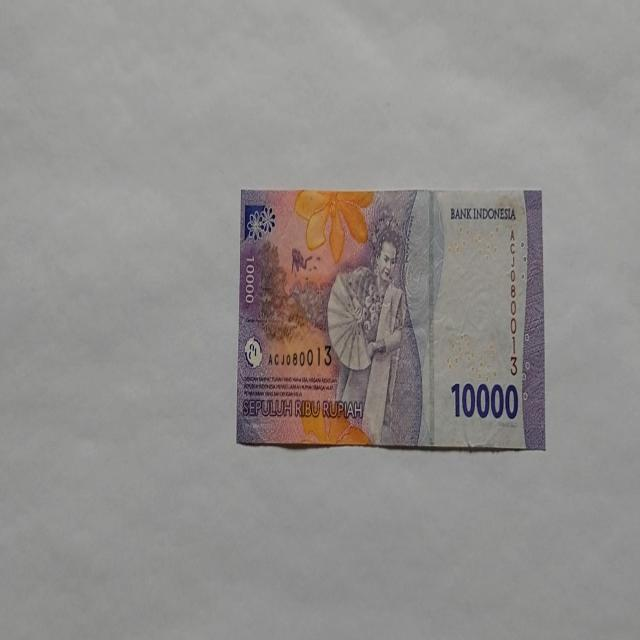sepuluh ribu rupiah: (235, 187, 545, 450)
